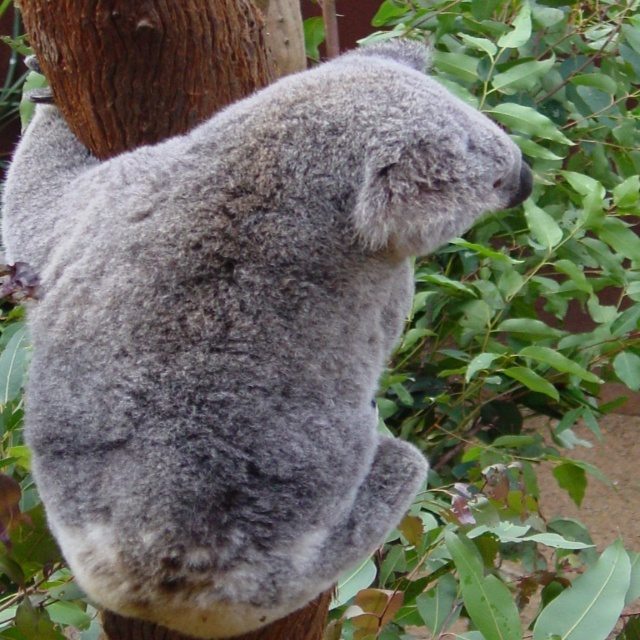Koala: (5, 39, 535, 640)
